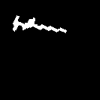double_crochet: (13, 16, 65, 32)
